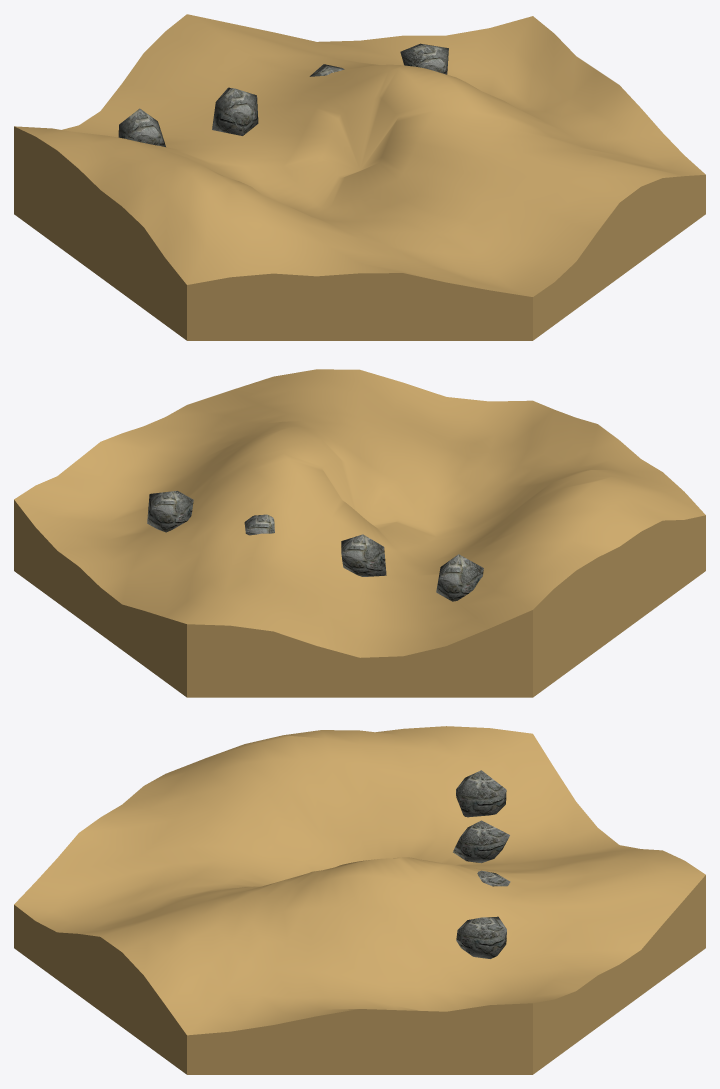
The model's file is env-terrain-desert-mobile.glb.
3 views of the same model, one above another, from view 1: azimuth 30°, elevation 25°; view 2: azimuth 150°, elevation 25°; view 3: azimuth 270°, elevation 25° (orthographic).
Visible parts, largest first — view 1: terrain desert · authored textured miniature; view 2: terrain desert · authored textured miniature; view 3: terrain desert · authored textured miniature.
Part boxes in pixels (x1=…): terrain desert · authored textured miniature: x1=14, y1=14, x2=705, y2=340; terrain desert · authored textured miniature: x1=14, y1=369, x2=705, y2=697; terrain desert · authored textured miniature: x1=14, y1=726, x2=705, y2=1074.
Bounding box in the file's own units: 1.63 × 0.3539 × 1.88.
Materials: 2 (1 with a texture image).
